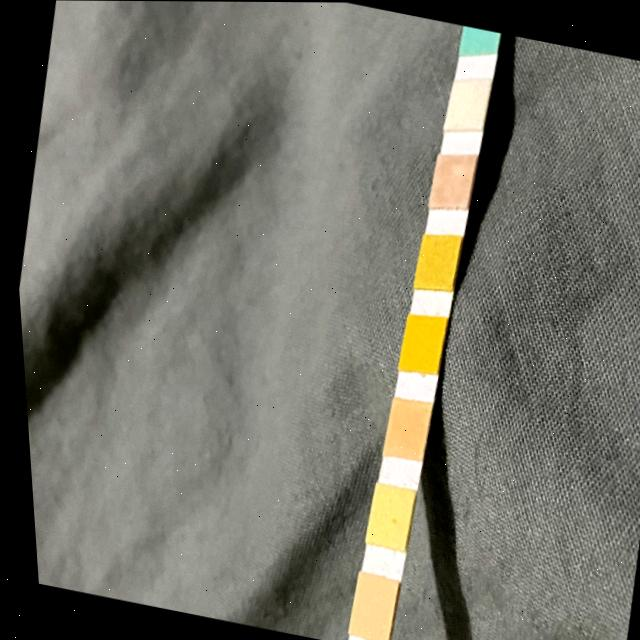Bilirubin: (444, 78, 490, 130)
Blood: (394, 314, 444, 374)
Glucose: (461, 25, 501, 53)
Ketone: (427, 153, 473, 209)
Protein: (358, 483, 409, 550)
SpGravity: (411, 232, 459, 291)
Urobilinogen: (339, 572, 393, 640)
pH: (378, 397, 429, 460)
